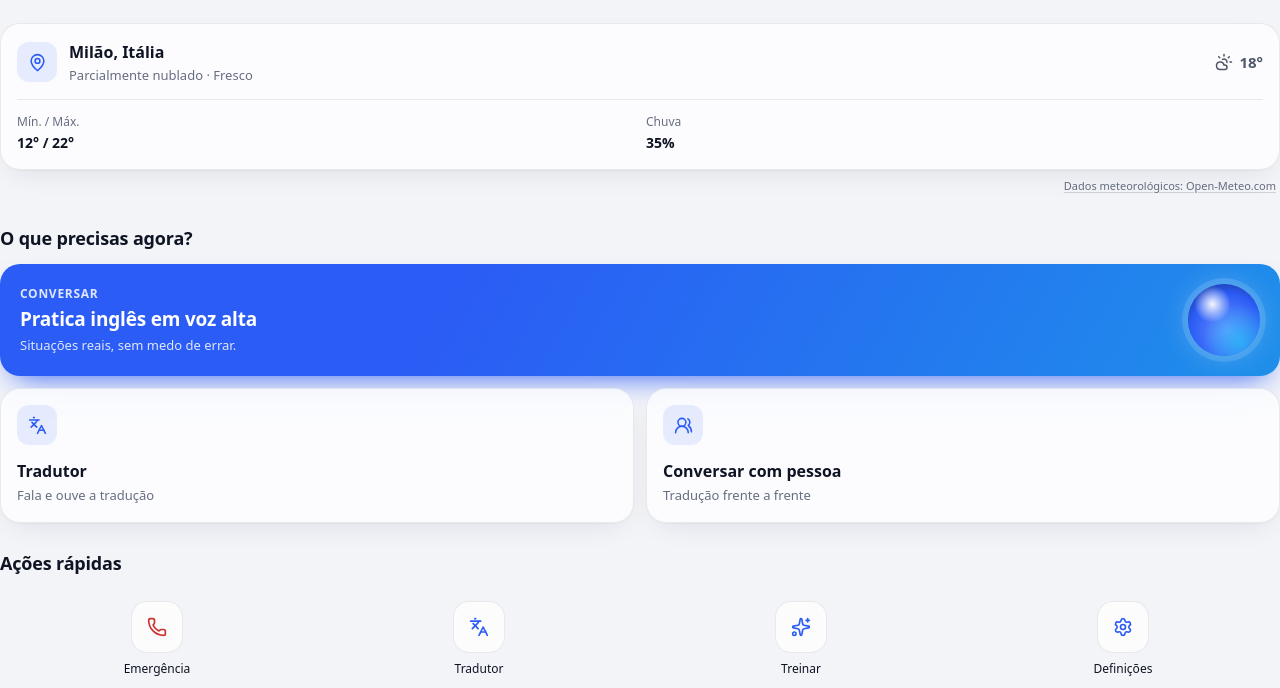
Test case: DashboardPage — features › emergency opens a sheet with a real tel:112 link
The width and height of the screenshot is (1280, 688).
(page scrolled)
Click the button "Emergência" at (157, 638), box [0, 588, 314, 687]
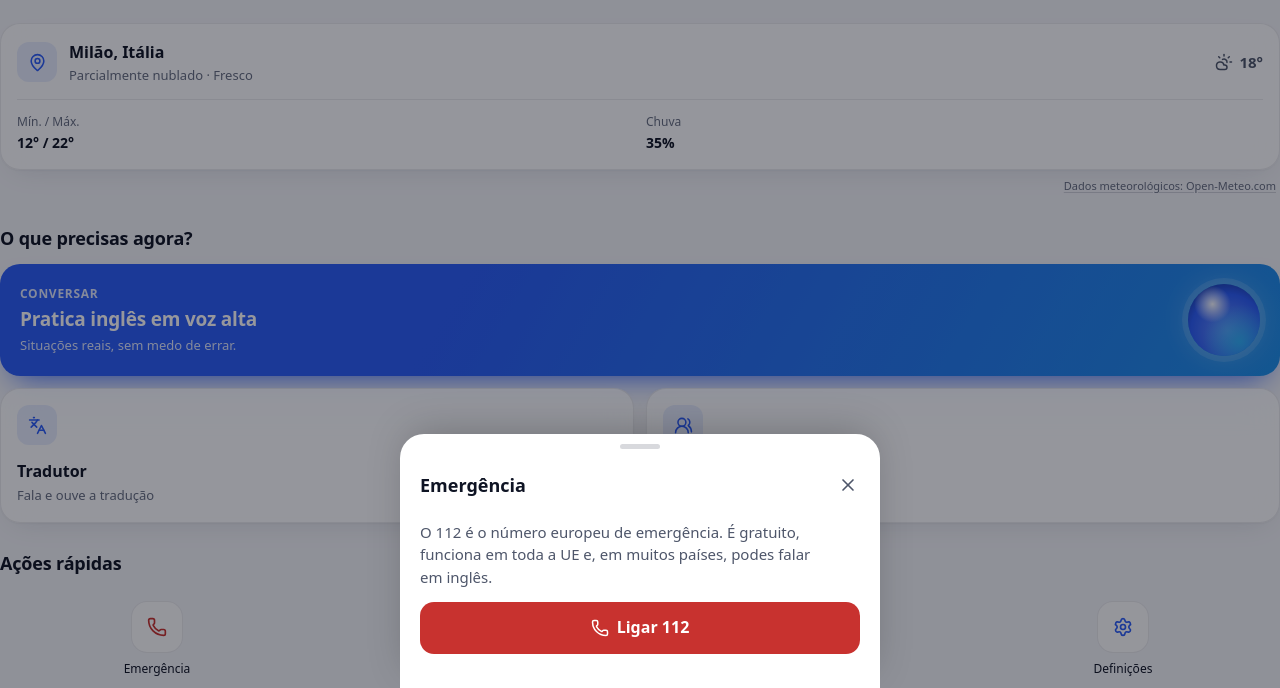
Expected: the text "O 112 é o número europeu de emergência" is shown, [420, 522, 810, 586]
